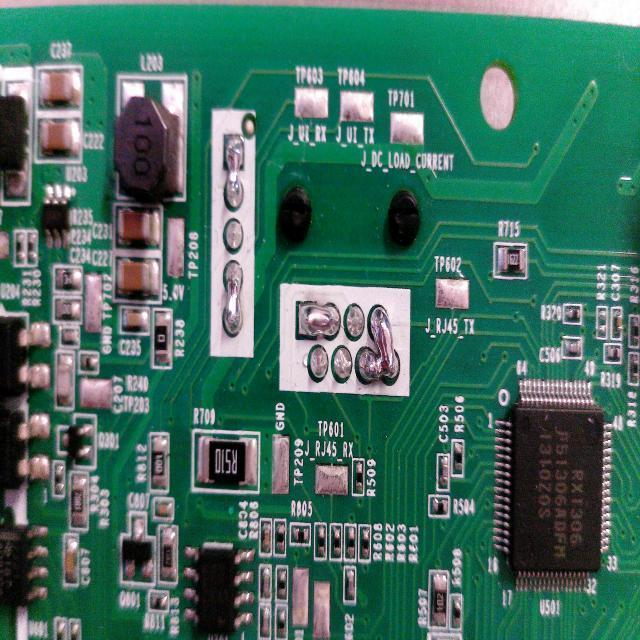Soldering shorted: (359, 306, 398, 387), (294, 299, 342, 342), (222, 256, 246, 340), (222, 134, 245, 212)
